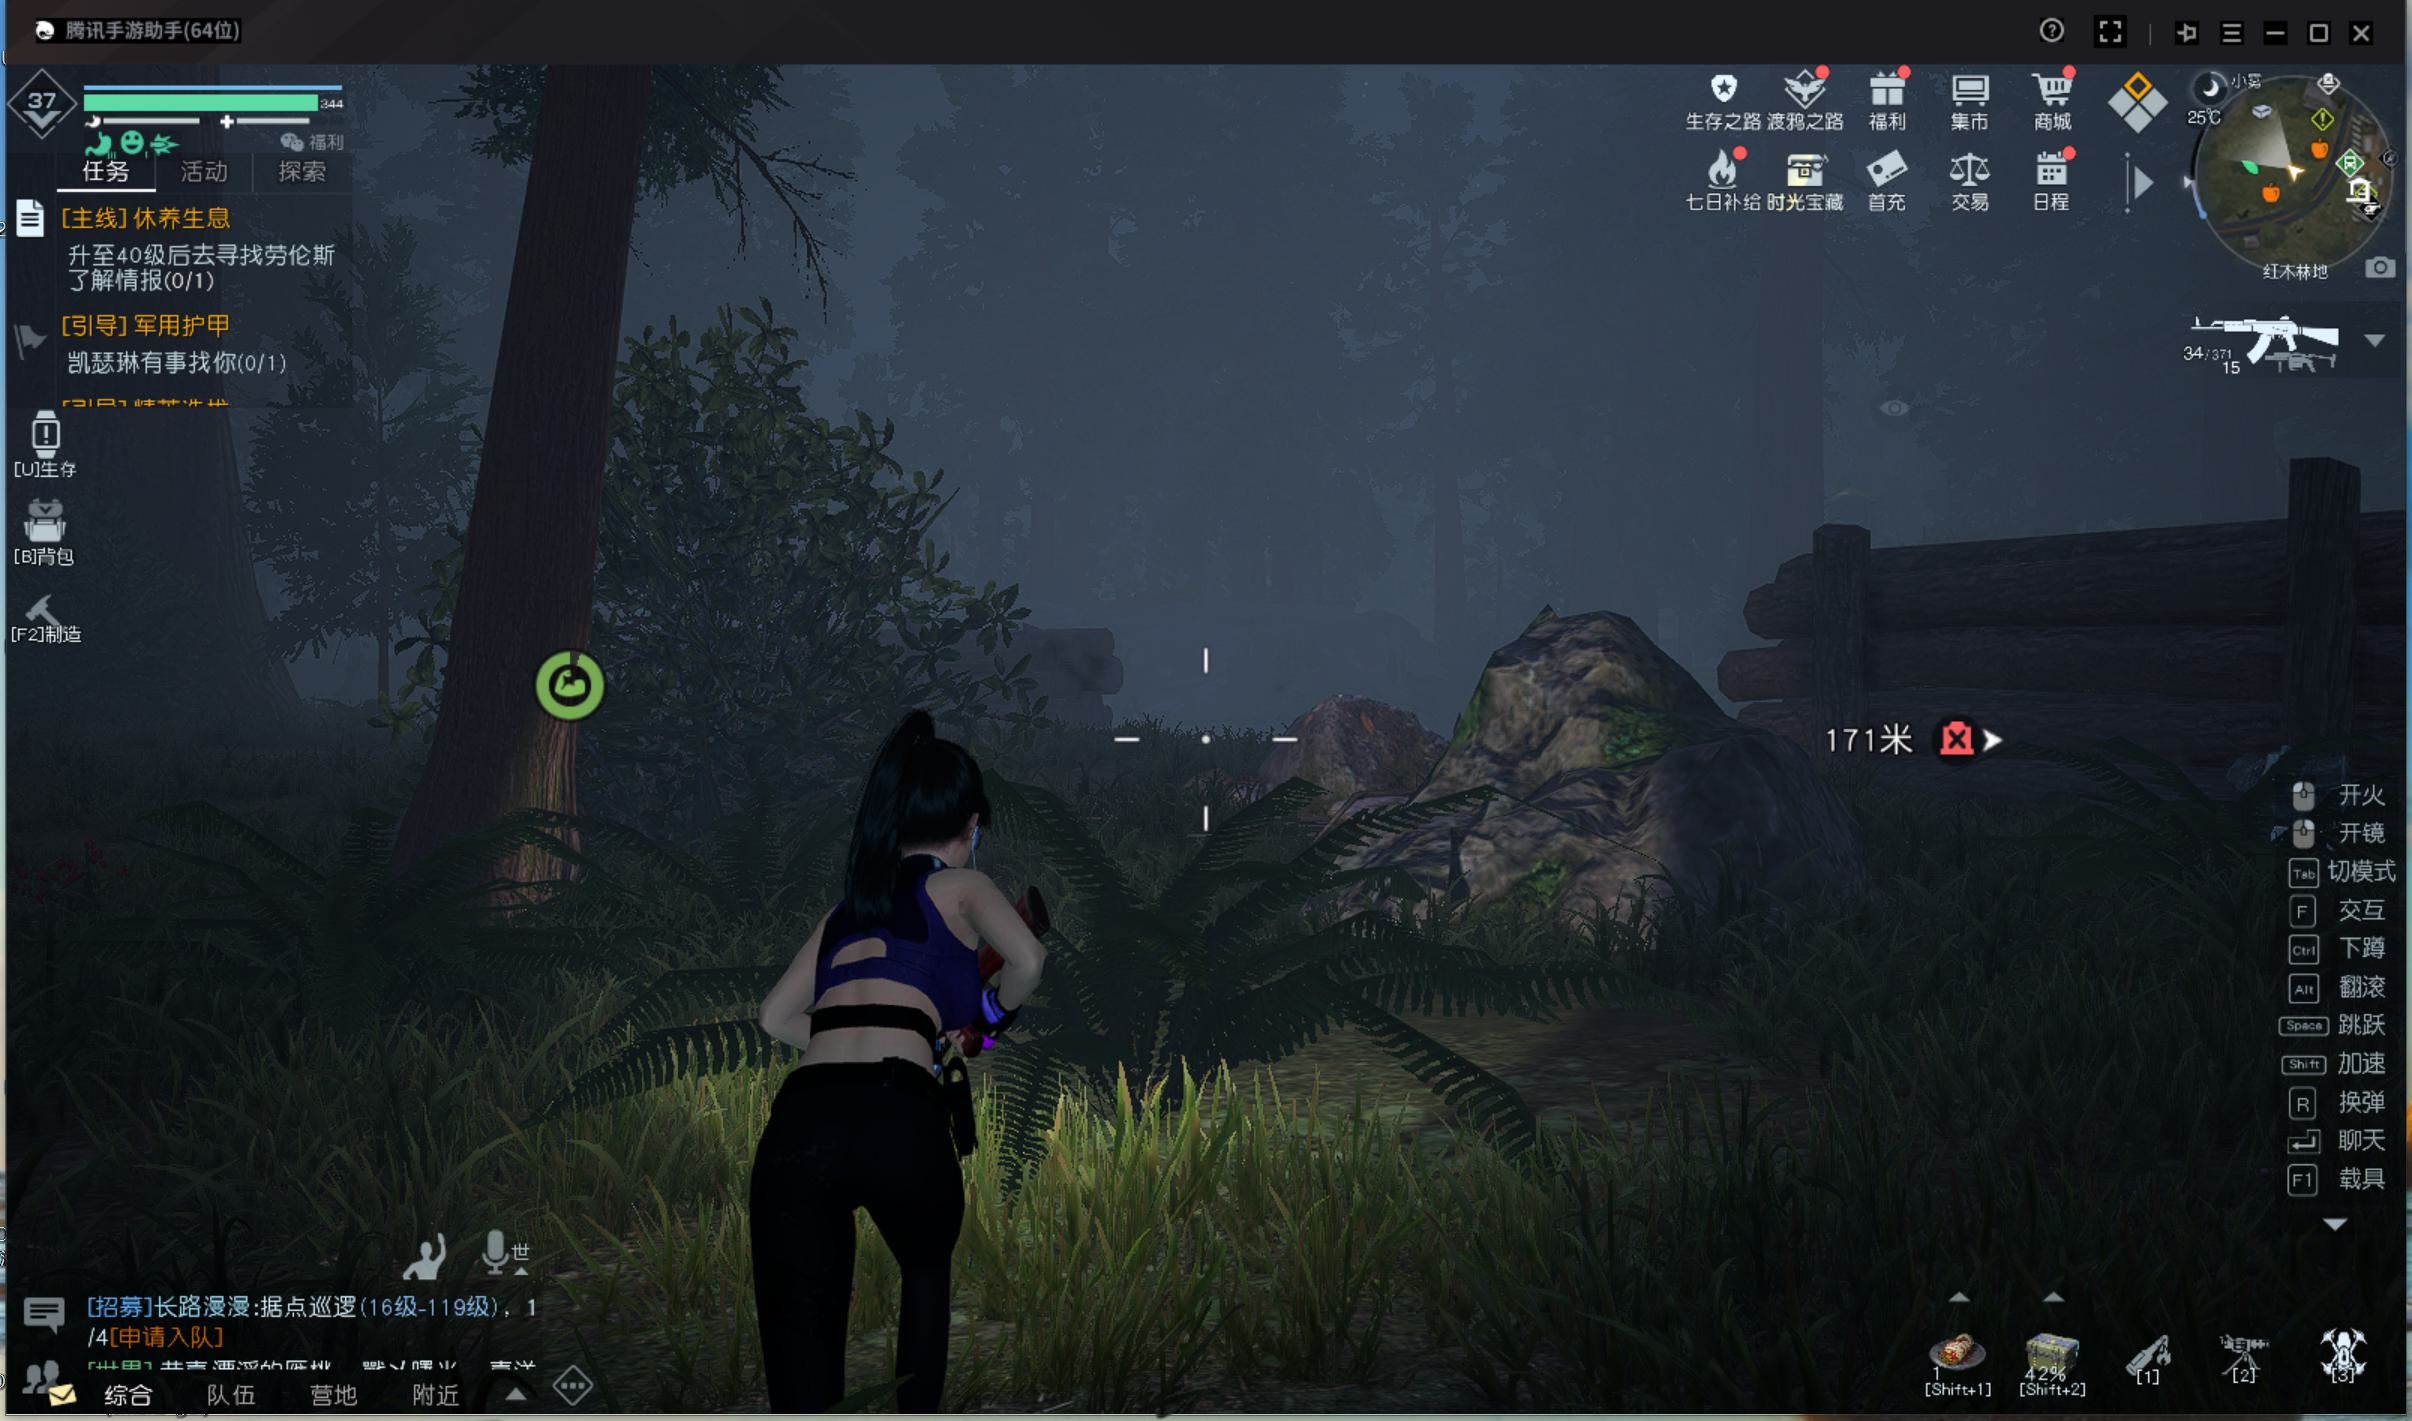tree: (431, 130, 639, 929)
